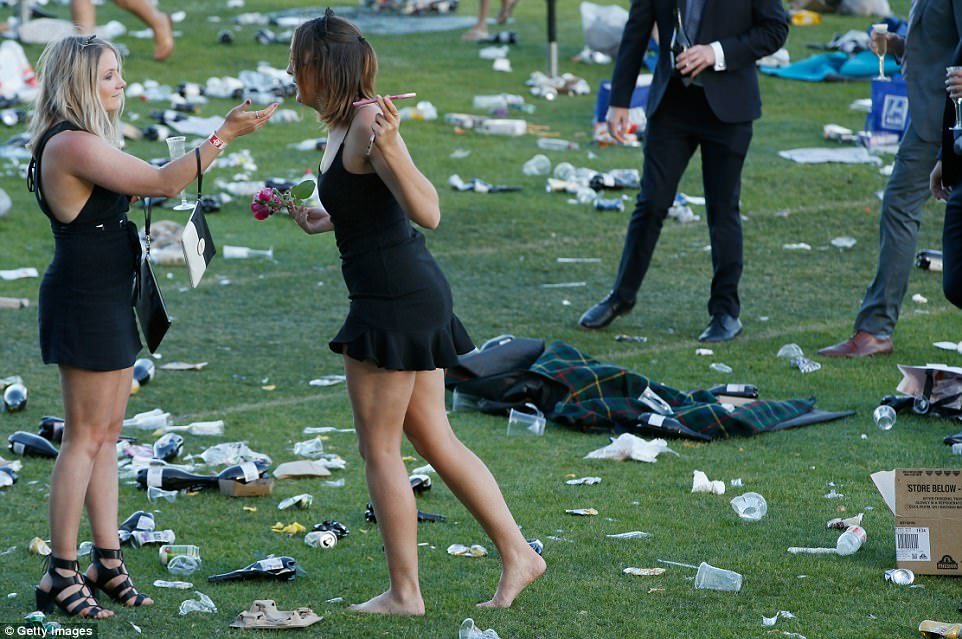Person: (288, 5, 548, 616), (28, 34, 278, 618)
